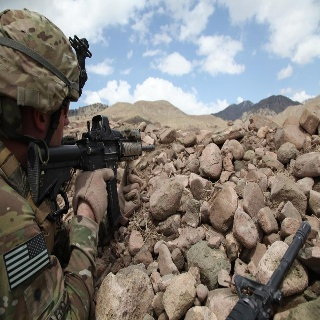rifle: (26, 113, 152, 227)
